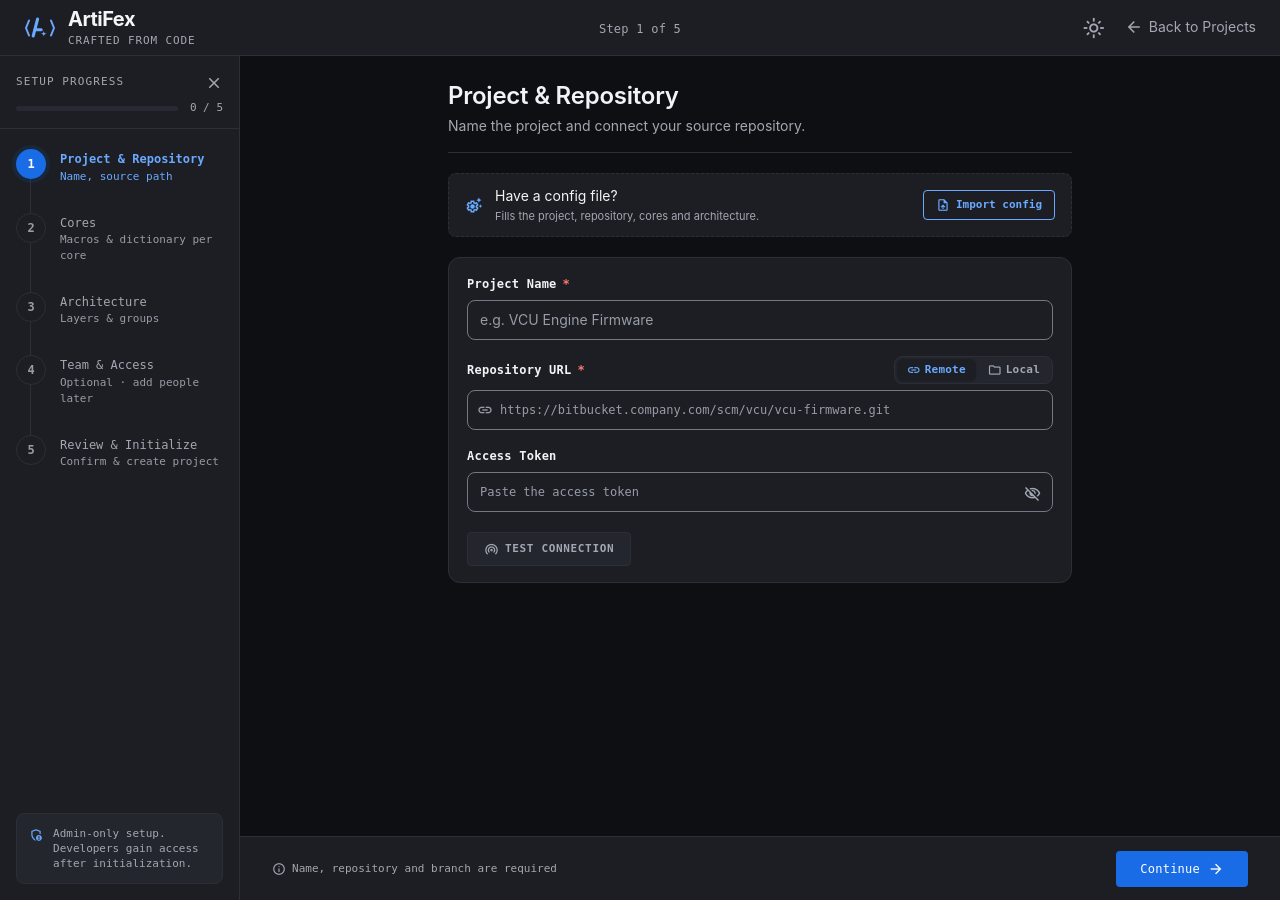
Scenario: Step 1: Remote | Local › Local: no token, no hint, Browse; Test Connection sends the path without its quotes
Expected: the field named "Repository URL" is shown, [467, 390, 1053, 430]
In the field labelled "access token": (760, 492) [467, 472, 1053, 512], type "ghp_secret"
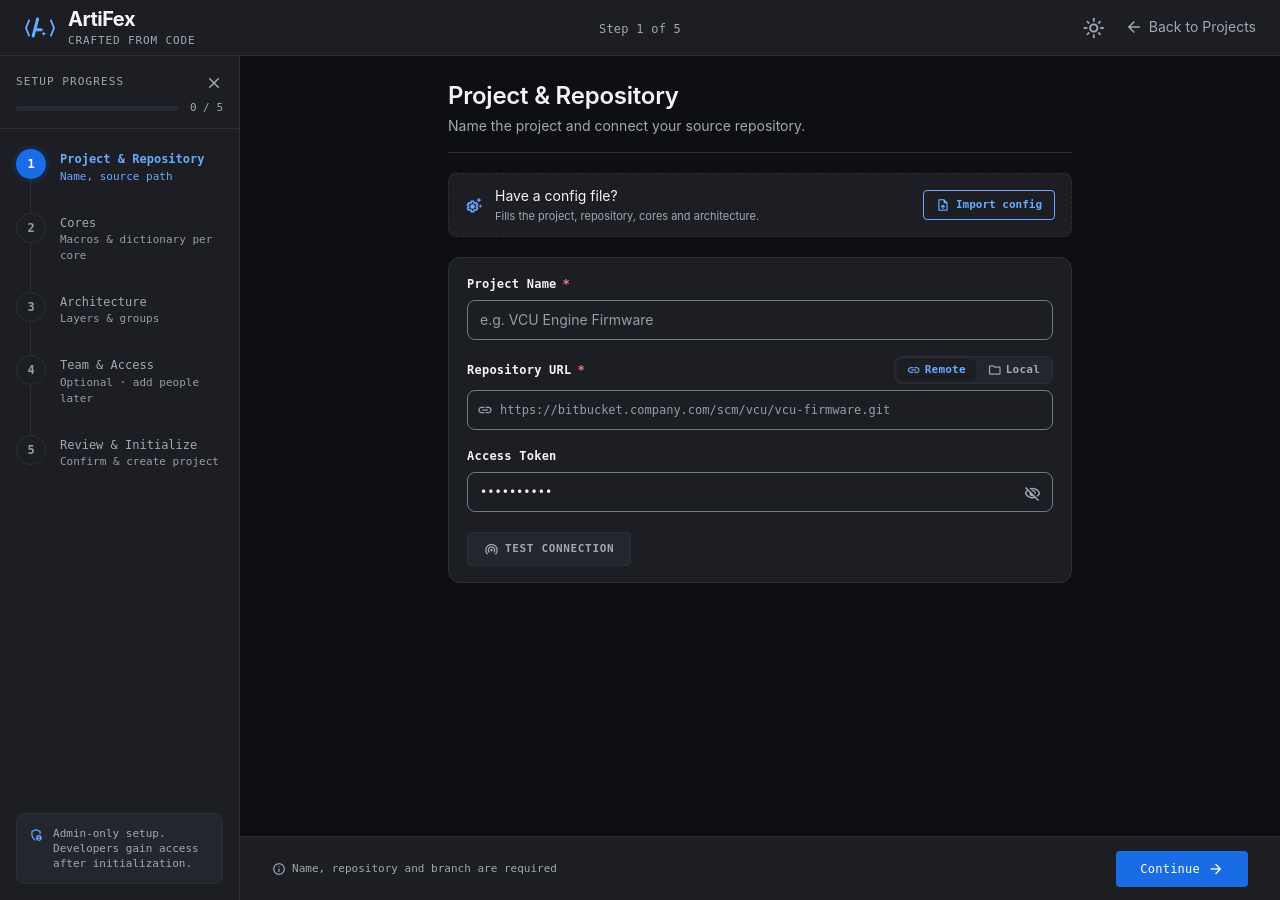
Click the radio button labelled "Local": (1014, 370) [978, 359, 1050, 381]
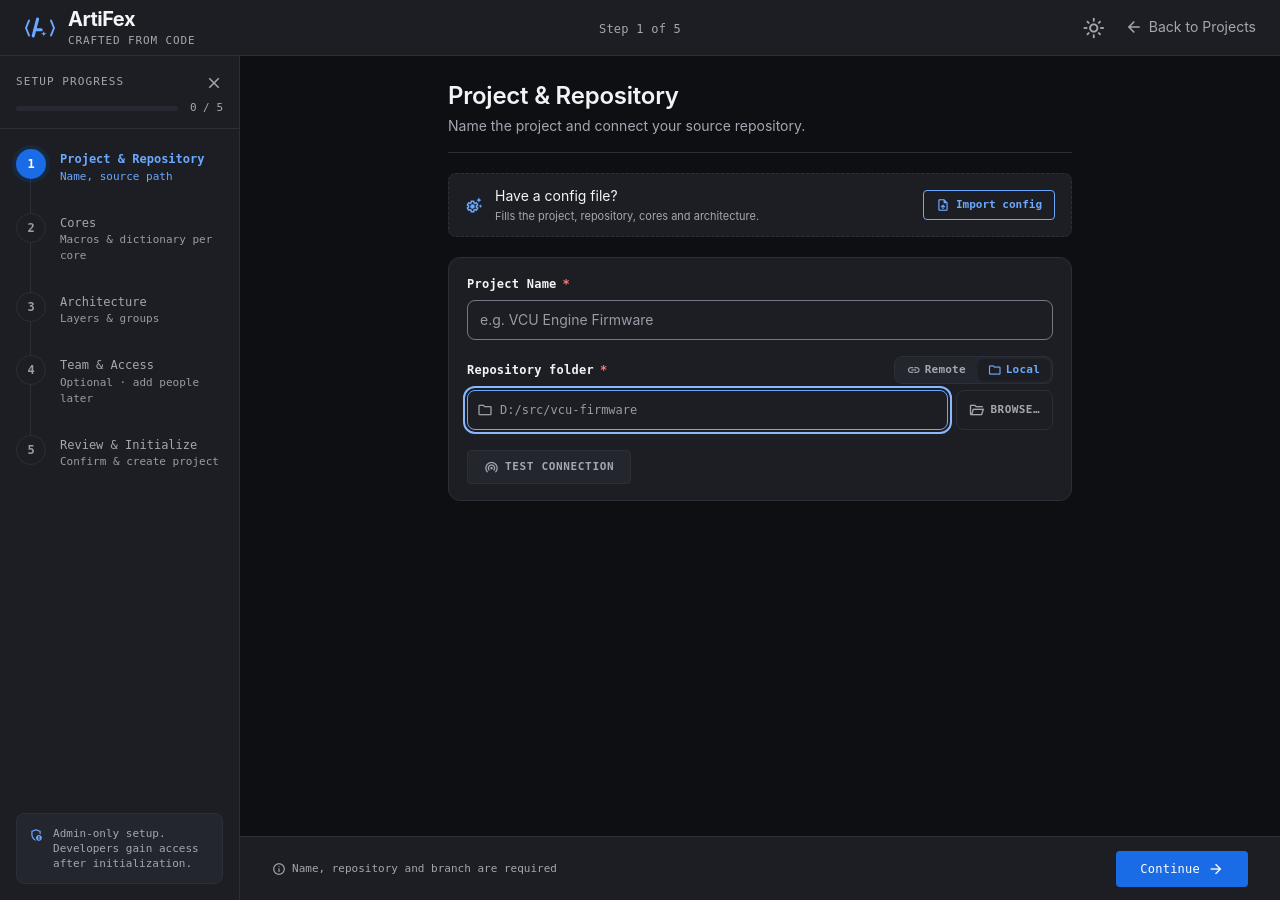
Now the text labelled "Access Token" is gone
Now the button "BROWSE…" is shown, box [956, 390, 1053, 430]
In the field named "Repository folder": (707, 410) [467, 390, 948, 430], type "\"D:\\src\\vcu-firmware\""
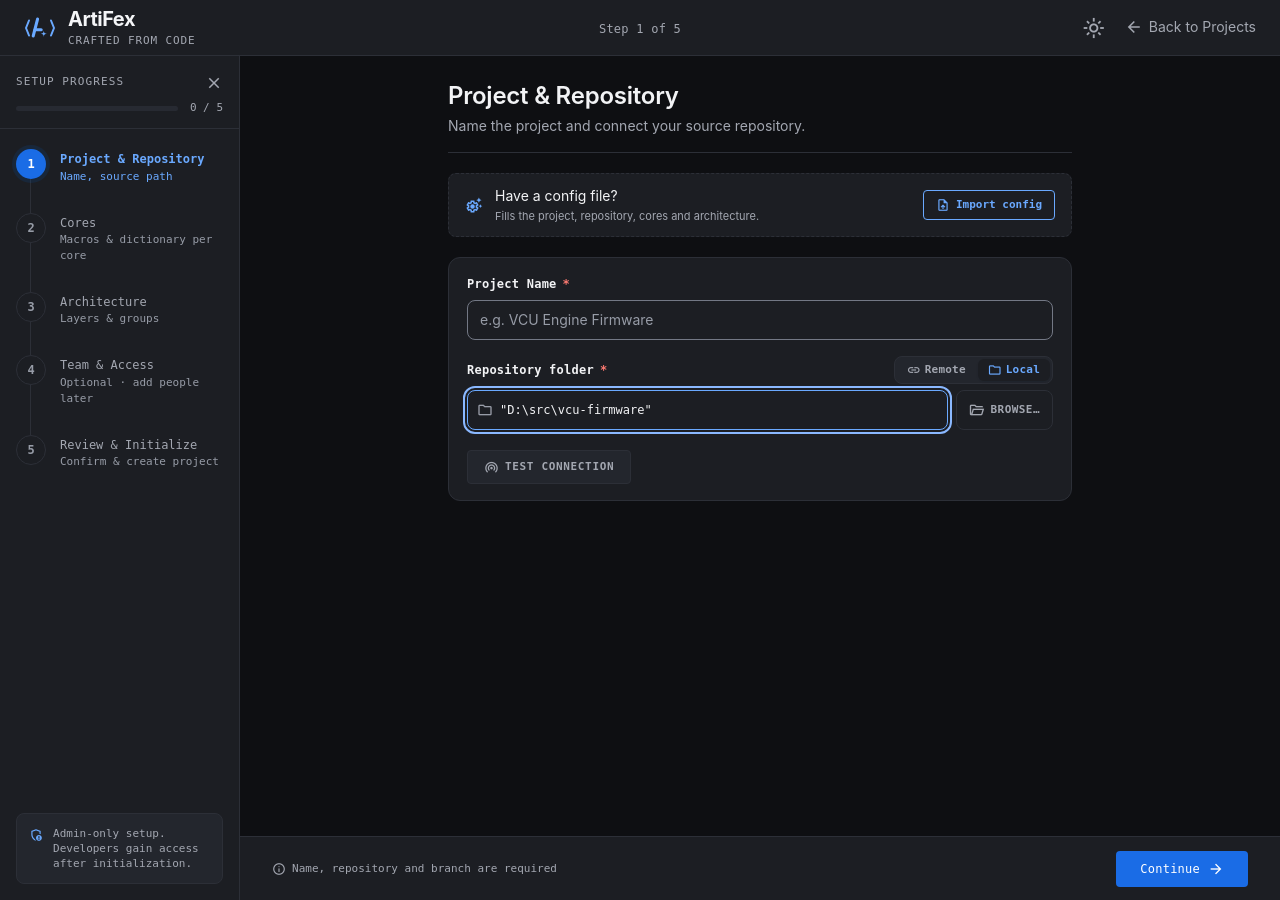
Click the button "Test Connection": (549, 467) [467, 450, 631, 484]
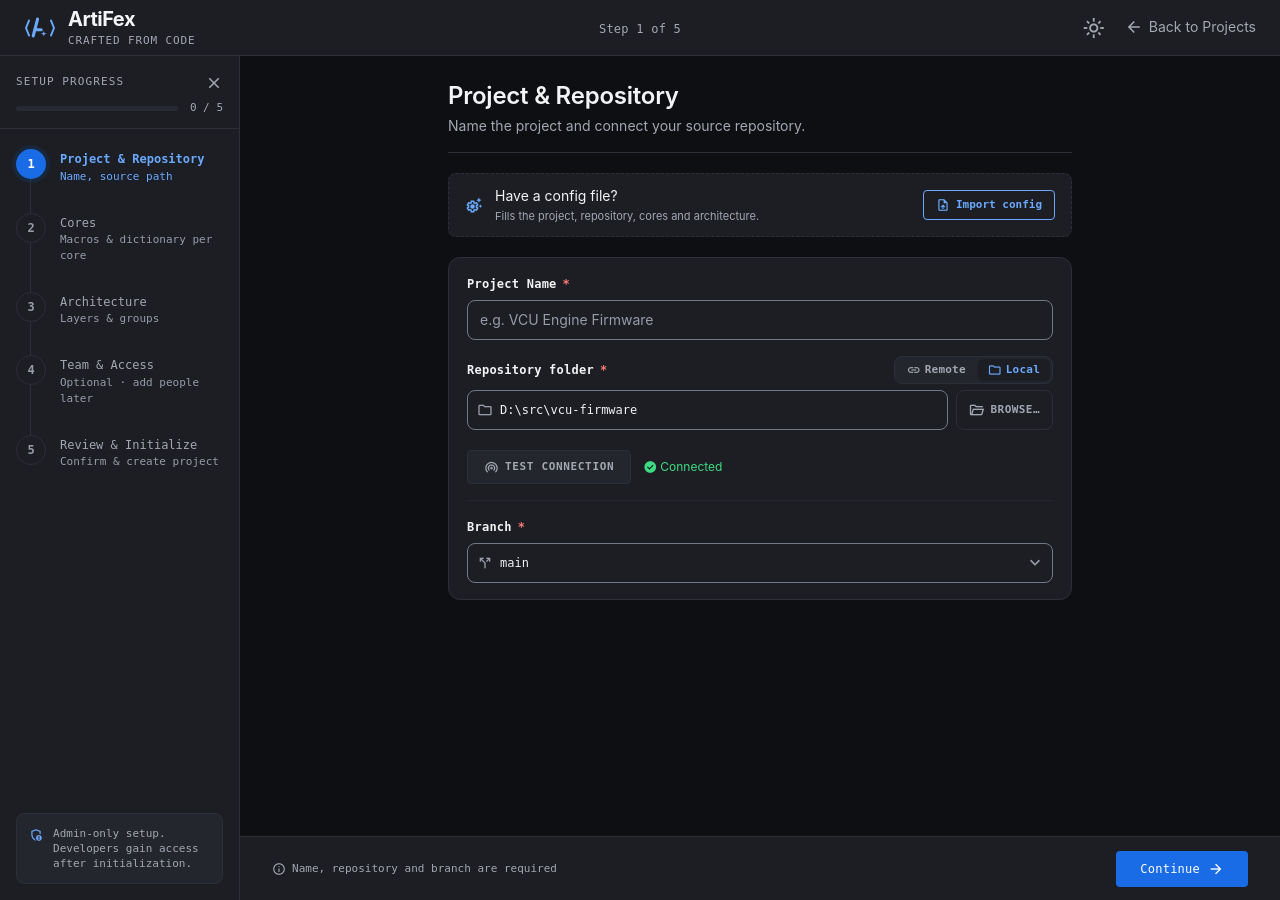
Now the field named "Repository folder" holds "D:\\src\\vcu-firmware", box [467, 390, 948, 430]
